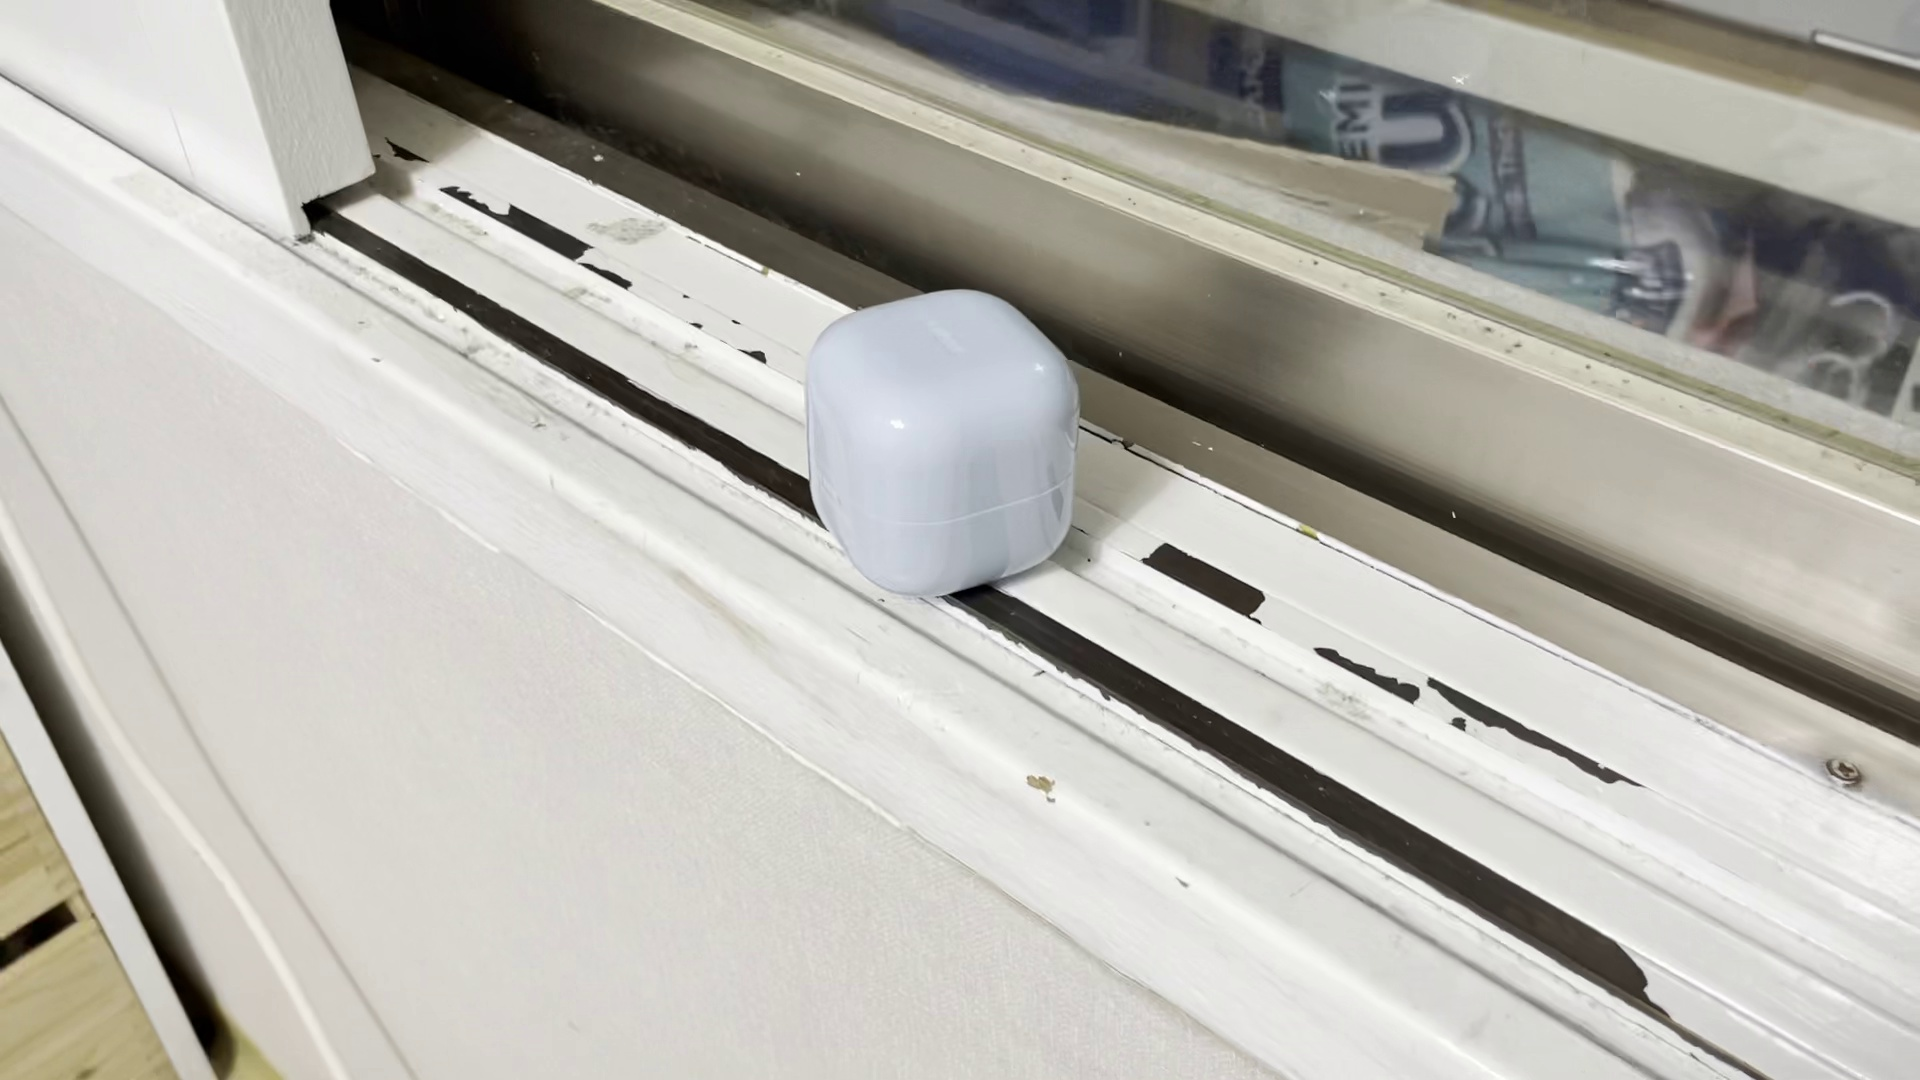cream: (799, 287, 1079, 601)
